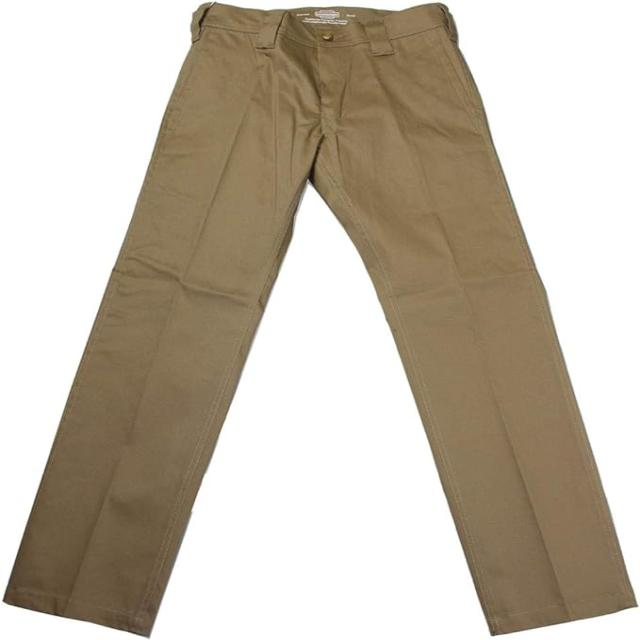long-pants: (8, 0, 634, 640)
